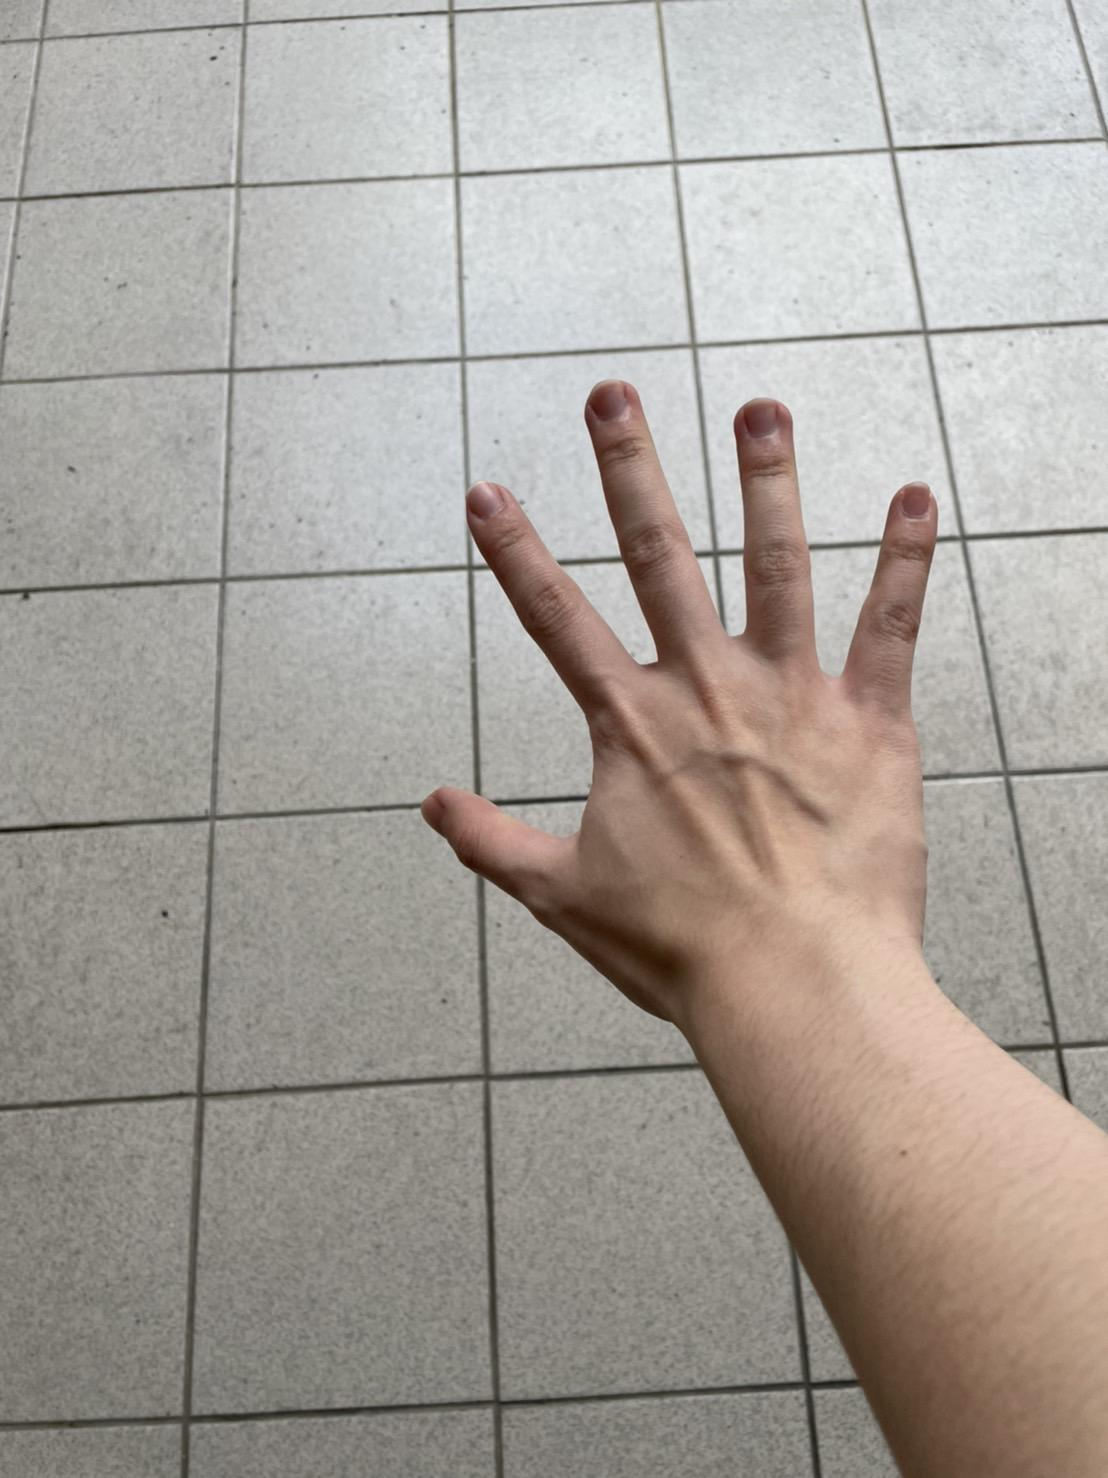hand: (417, 371, 942, 983)
